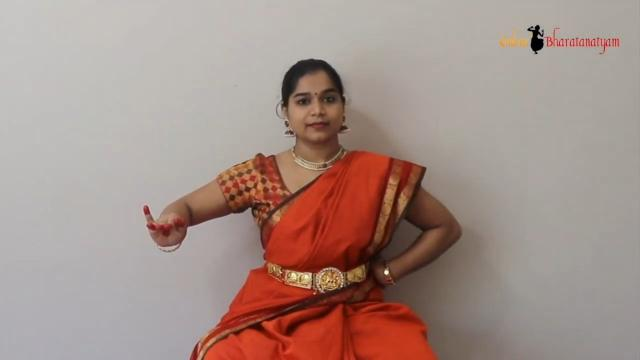Hamsapaksha: (102, 176, 206, 266)
